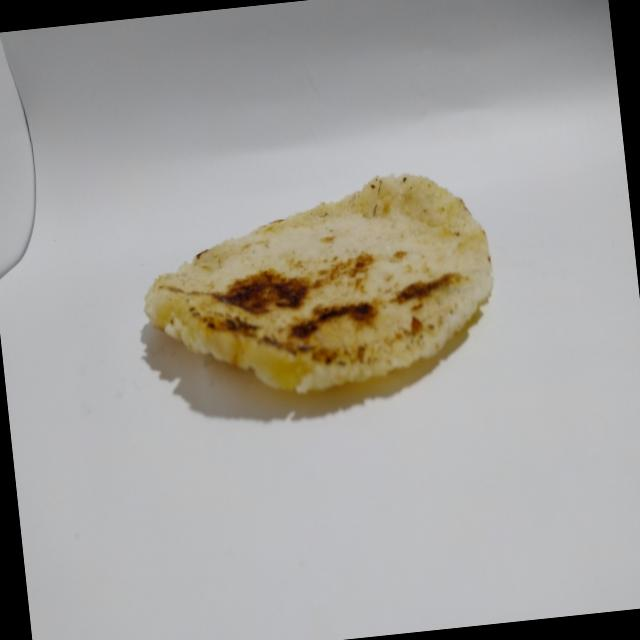Mbeju: (105, 150, 510, 434)
